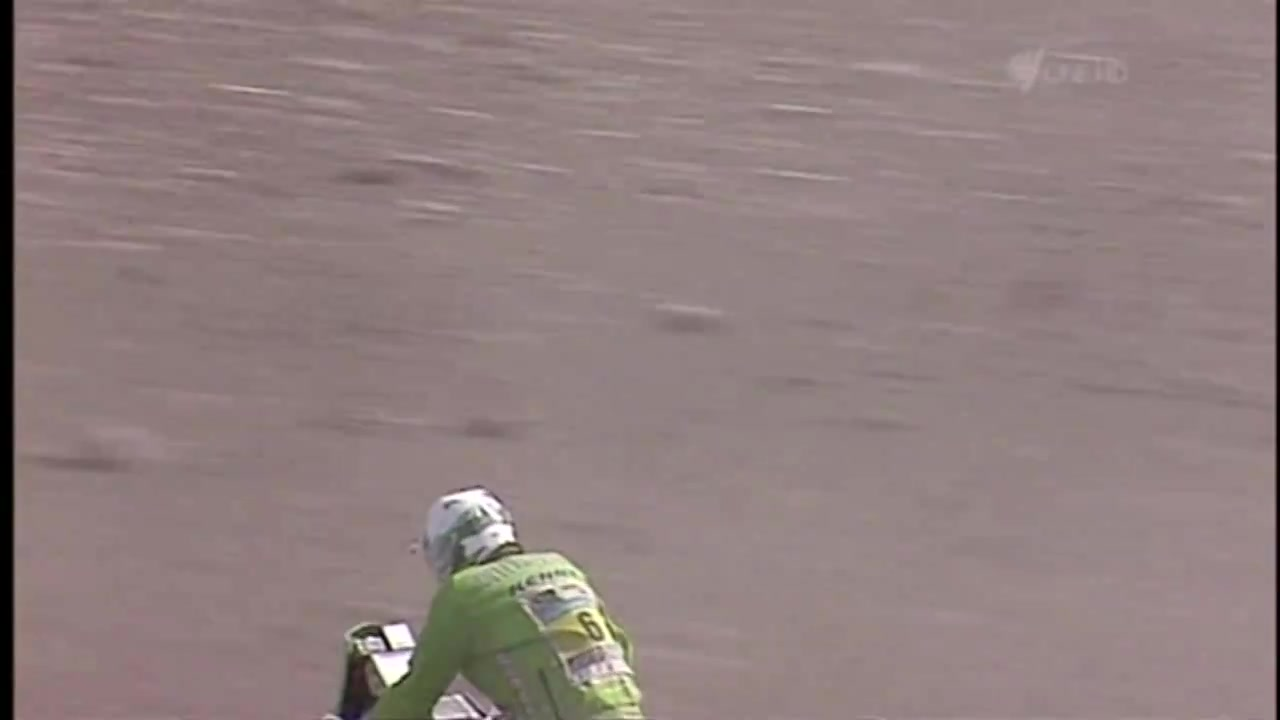motorbike: (328, 610, 497, 720)
